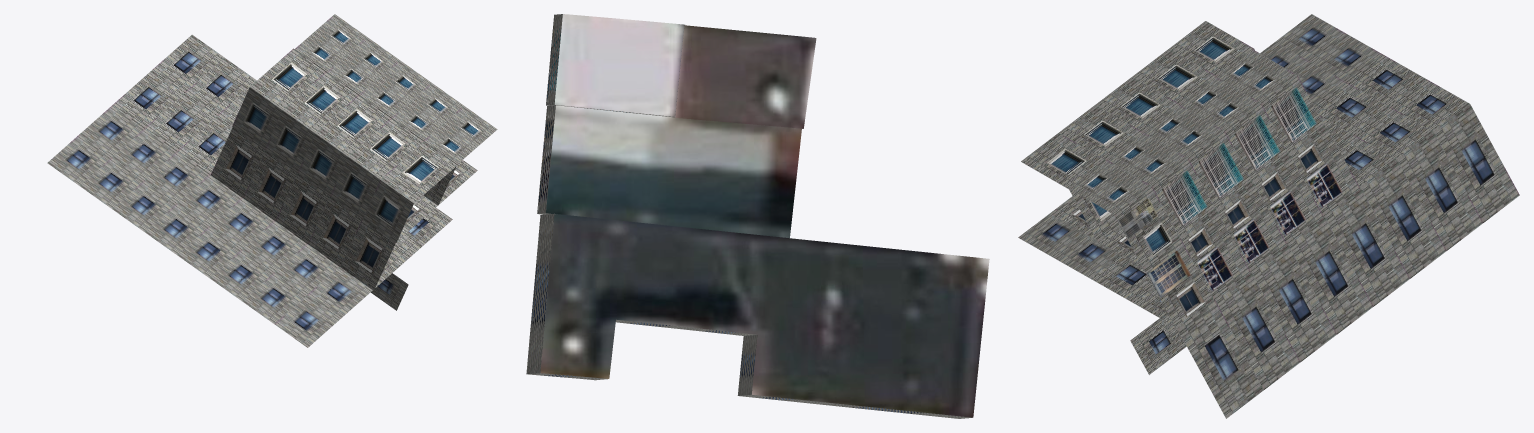
3 views of the same model, side by side, from view 1: azimuth 30°, elevation 25°; view 2: azimuth 150°, elevation 25°; view 3: azimuth 270°, elevation 25° (orthographic). The views are drawn at different scales.
Bounding box in the file's own units: 34.18 × 25.54 × 33.78.
14 materials, 14 textured.
